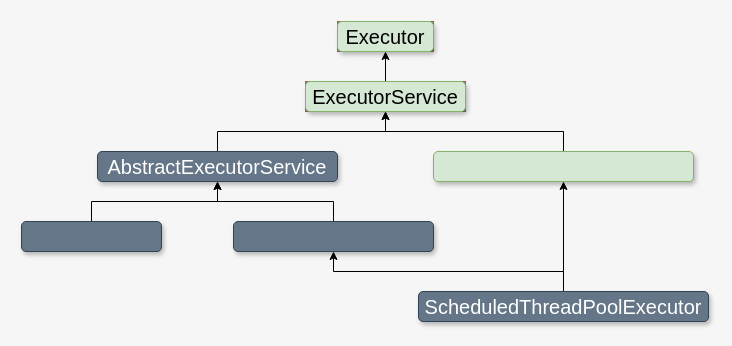
Image size: 732x346. Some labels were removed from this diagram. The shapes that lost their labels are listed below. From the top down, each one's centre as x and y in pixels, then its label:
At pixel 564 167: "ScheduledExecutorService".
At pixel 92 237: "ForkJoinPool".
At pixel 334 237: "ThreadPoolExecutor".
